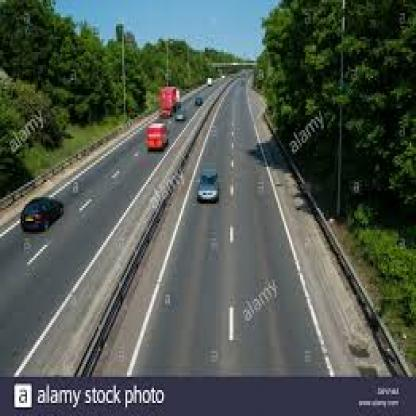car: (14, 192, 70, 238), (196, 158, 221, 214), (149, 83, 181, 123), (138, 118, 171, 156), (187, 93, 209, 116), (172, 107, 188, 124)
